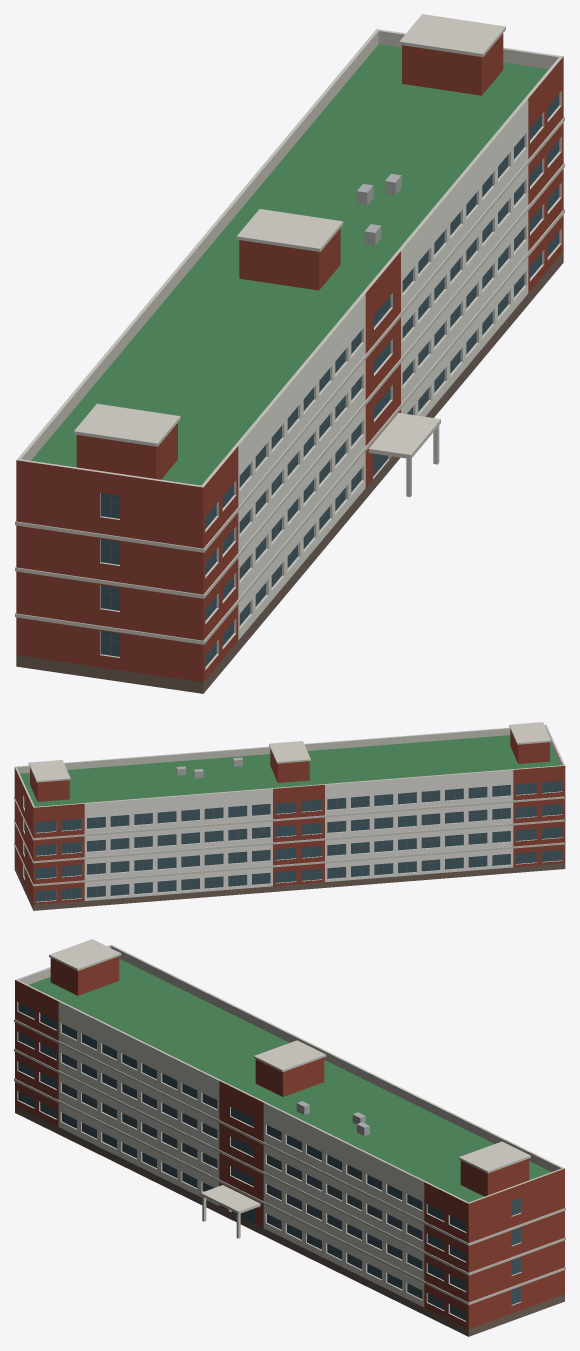
The picture shows the model from 3 angles, top to bottom: view 1: azimuth 30°, elevation 25°; view 2: azimuth 150°, elevation 25°; view 3: azimuth 270°, elevation 25°; orthographic projection. The views are drawn at different scales.
Visible parts, largest first — view 1: wing1__roof, wing1__brick, wing1__trim-concrete, wing1__wall-plaster, wing1__glass, wing1__base-stone, wing1__canopy-concrete, wing1__frame, wing1__equipment; view 2: wing1__wall-plaster, wing1__glass, wing1__roof, wing1__trim-concrete, wing1__brick, wing1__base-stone, wing1__frame, wing1__equipment; view 3: wing1__wall-plaster, wing1__brick, wing1__roof, wing1__trim-concrete, wing1__glass, wing1__base-stone, wing1__frame, wing1__canopy-concrete.
Boxes of the visible parts, bbox=[...] form: wing1__roof: bbox=[31, 44, 548, 485]; wing1__brick: bbox=[16, 33, 563, 682]; wing1__trim-concrete: bbox=[15, 14, 564, 669]; wing1__wall-plaster: bbox=[238, 99, 528, 640]; wing1__glass: bbox=[100, 94, 559, 666]; wing1__base-stone: bbox=[16, 251, 563, 693]; wing1__canopy-concrete: bbox=[368, 413, 440, 496]; wing1__frame: bbox=[100, 101, 559, 661]; wing1__equipment: bbox=[356, 173, 401, 245]; wing1__wall-plaster: bbox=[84, 770, 513, 900]; wing1__glass: bbox=[24, 780, 562, 901]; wing1__roof: bbox=[20, 735, 559, 806]; wing1__trim-concrete: bbox=[14, 722, 565, 902]; wing1__brick: bbox=[14, 729, 565, 904]; wing1__base-stone: bbox=[14, 863, 565, 910]; wing1__frame: bbox=[24, 782, 562, 900]; wing1__equipment: bbox=[176, 757, 242, 778]; wing1__wall-plaster: bbox=[58, 1002, 424, 1307]; wing1__brick: bbox=[15, 956, 564, 1329]; wing1__roof: bbox=[29, 959, 551, 1202]; wing1__trim-concrete: bbox=[14, 939, 565, 1321]; wing1__glass: bbox=[18, 1002, 520, 1320]; wing1__base-stone: bbox=[15, 1105, 564, 1336]; wing1__frame: bbox=[18, 1006, 520, 1317]; wing1__canopy-concrete: bbox=[200, 1185, 260, 1238].
Bounding box in the file's own units: 67.73 × 18.45 × 60.73.
